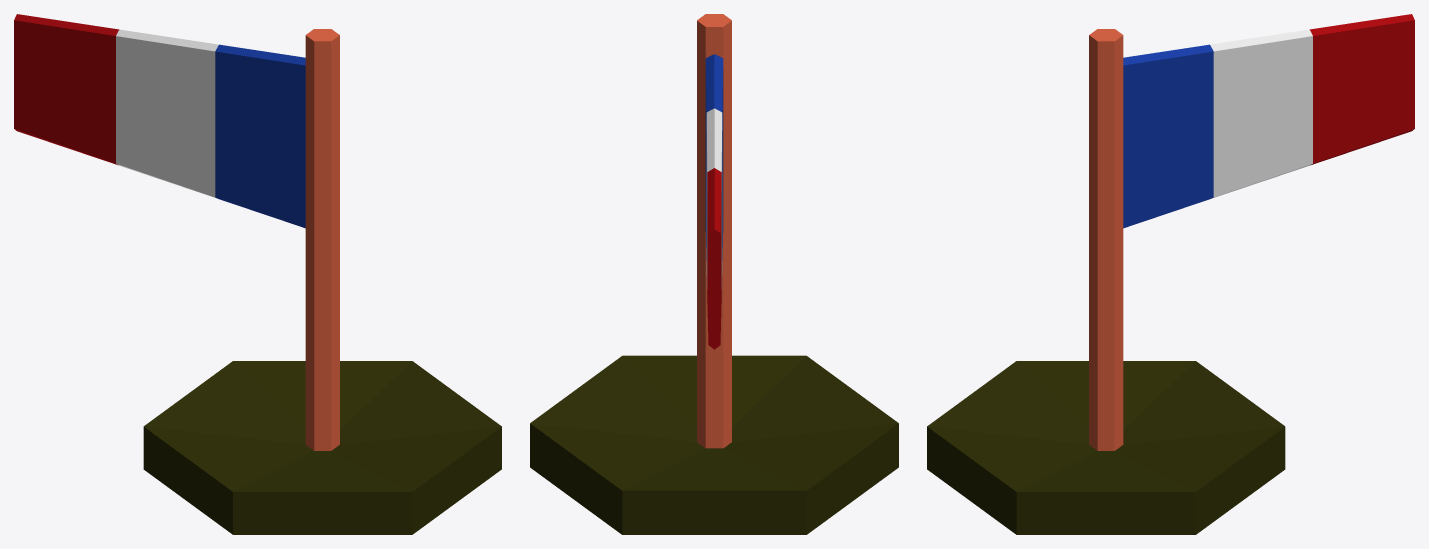
File: flag.fbx
The picture shows the model from 3 angles, left to right: view 1: azimuth 30°, elevation 25°; view 2: azimuth 150°, elevation 25°; view 3: azimuth 270°, elevation 25°; orthographic projection. The views are drawn at different scales.
Visible parts, largest first — view 1: Cylinder; view 2: Cylinder; view 3: Cylinder.
Part boxes in pixels (x1,y1,x2,y2): Cylinder: (14,14,501,534); Cylinder: (530,14,898,534); Cylinder: (927,14,1414,534).
Bounding box in the file's own units: 466 × 663 × 675.
